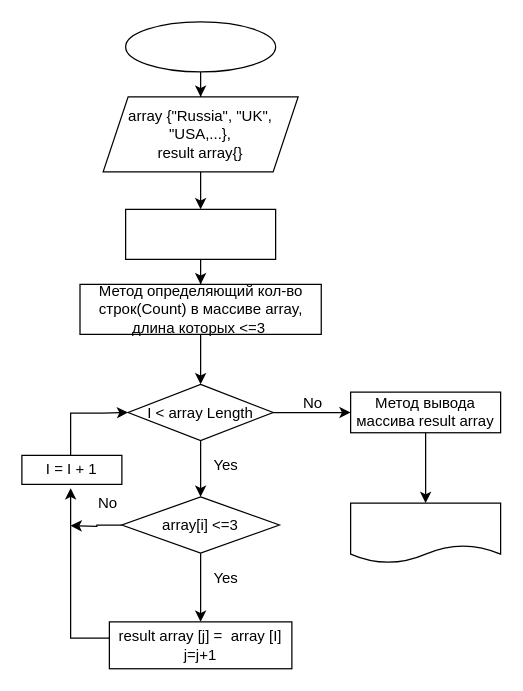
Image size: 523x691. Some labels were removed from this diagram. The shapes that lost their labels are listed below. From the top down, each one's box as (x1, y1, x2, y2) in pixels, then its label:
(124, 21, 276, 72): Старт
(124, 208, 276, 259): I=0 J=0 Count = 0
(349, 502, 501, 563): Конец
